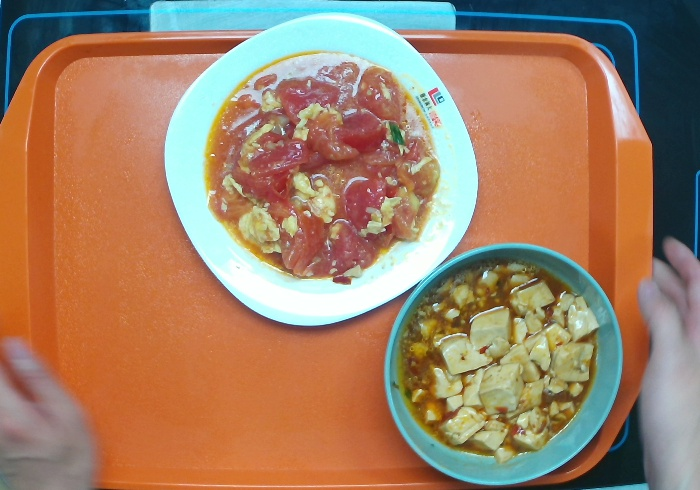ZNLD-Qing_Hua_Yuan_Wan: (370, 218, 637, 490)
ZNLD-Yuan_Jiao_Pan: (157, 10, 487, 342)
